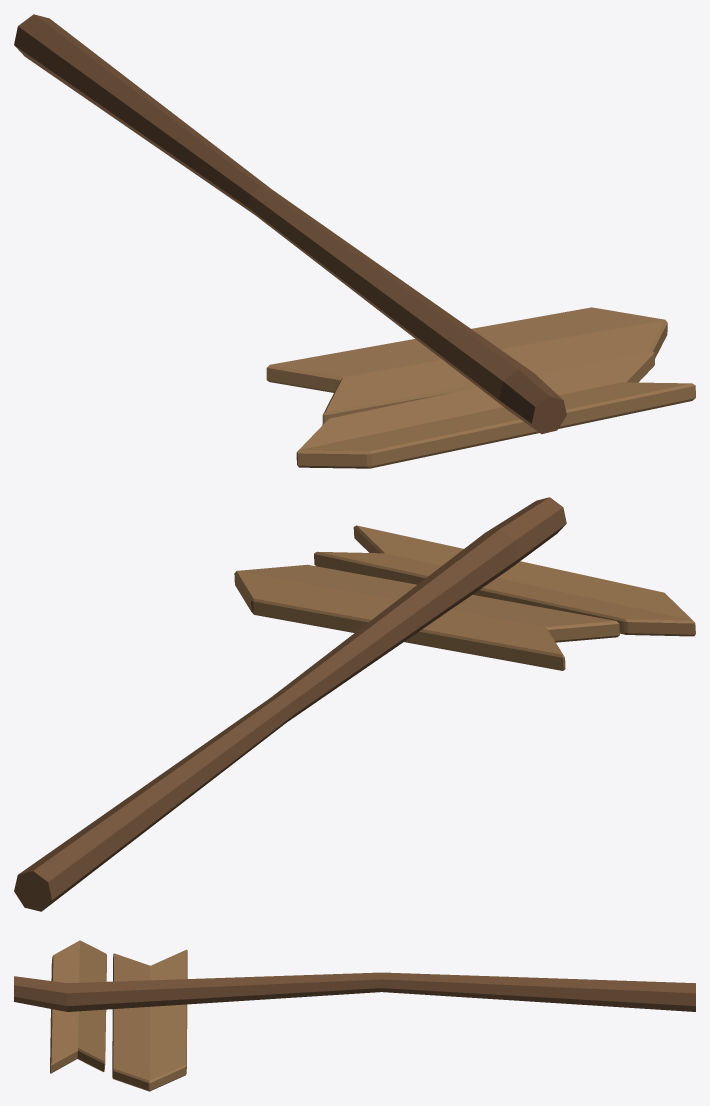
File: Panel_06.fbx
3 views of the same model, one above another, from view 1: azimuth 30°, elevation 25°; view 2: azimuth 150°, elevation 25°; view 3: azimuth 270°, elevation 25° (orthographic). The views are drawn at different scales.
Visible parts, largest first — view 1: Poteau 1*2 fleches LOW Grand.002; view 2: Poteau 1*2 fleches LOW Grand.002; view 3: Poteau 1*2 fleches LOW Grand.002.
Part boxes in pixels (left/top/right/bottom): Poteau 1*2 fleches LOW Grand.002: left=14, top=14, right=695, bottom=468; Poteau 1*2 fleches LOW Grand.002: left=14, top=497, right=695, bottom=911; Poteau 1*2 fleches LOW Grand.002: left=14, top=940, right=695, bottom=1091.
Size of the model in its own units: 74.41 by 12.95 by 160.
